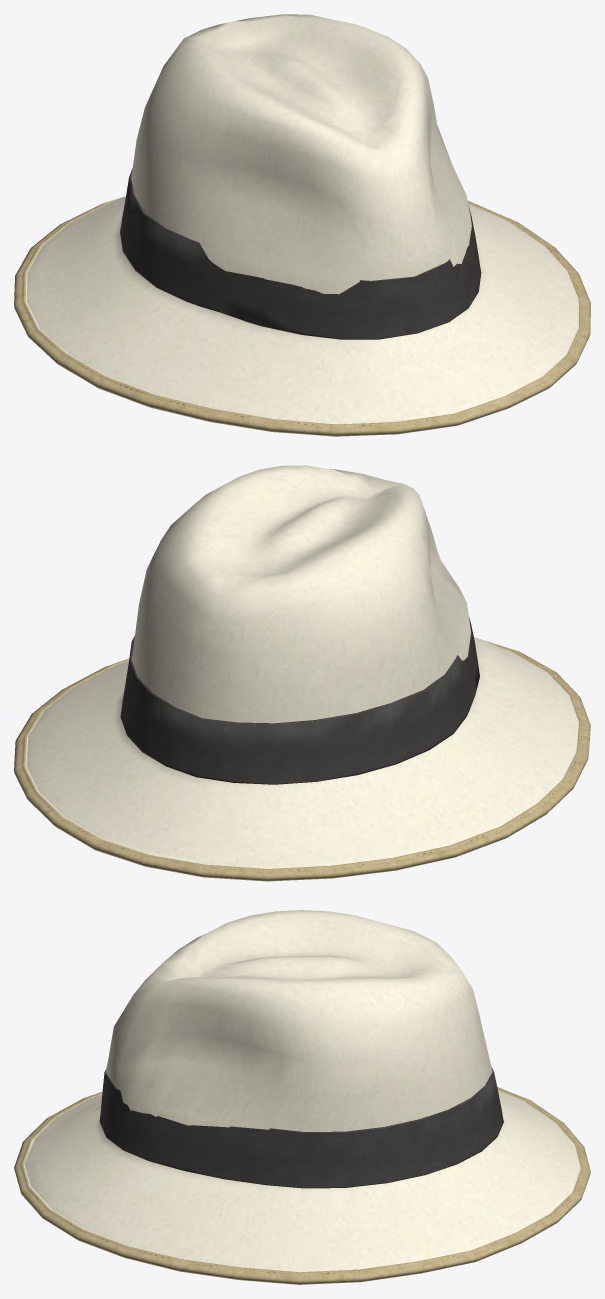
Rendered from hat.glb.
3 renders of one model, top to bottom at view 1: azimuth 30°, elevation 25°; view 2: azimuth 150°, elevation 25°; view 3: azimuth 270°, elevation 25°, orthographic. The views are drawn at different scales.
Parts seen in each view (by area): view 1: Hat; view 2: Hat; view 3: Hat.
Part boxes in pixels (<box>): Hat: <box>14,14,590,436</box>; Hat: <box>14,465,590,881</box>; Hat: <box>14,910,590,1284</box>.
Bounding box in the file's own units: 0.3015 × 0.1462 × 0.3342.
Materials: 1 (1 with a texture image).
